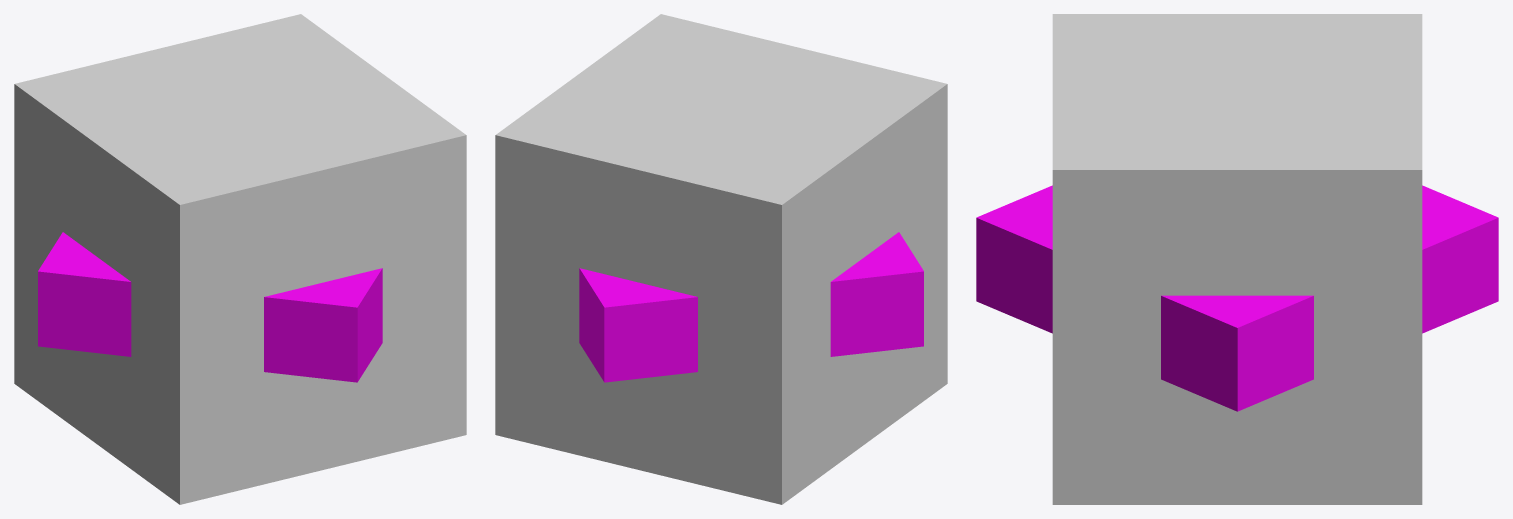
Rendered from WarriorCube.fbx.
The picture shows the model from 3 angles, left to right: view 1: azimuth 30°, elevation 25°; view 2: azimuth 150°, elevation 25°; view 3: azimuth 270°, elevation 25°; orthographic projection. The views are drawn at different scales.
Parts seen in each view (by area): view 1: Warrior Cube; view 2: Warrior Cube; view 3: Warrior Cube.
Part boxes in pixels (x1,y1,x2,y2): Warrior Cube: (14,14,466,504); Warrior Cube: (495,14,947,504); Warrior Cube: (976,14,1498,504).
Size of the model in its own units: 1.41 by 1 by 1.41.
